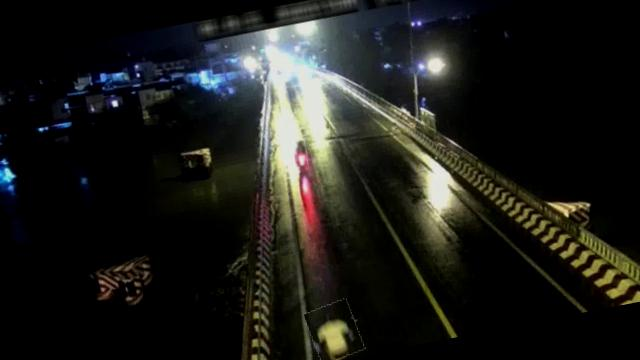Bike: (304, 298, 363, 360), (292, 138, 310, 170)
